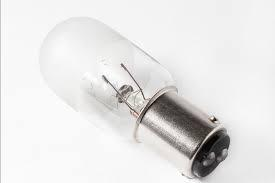Lamp: (27, 11, 238, 183)
